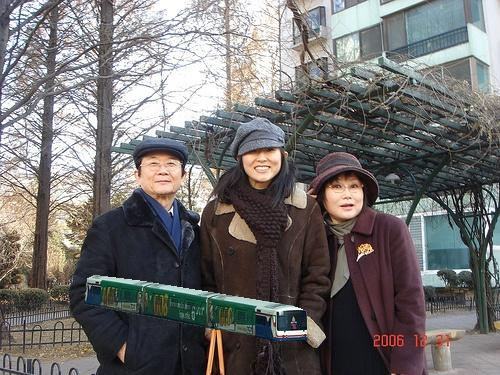tampered: (85, 276, 307, 341)
